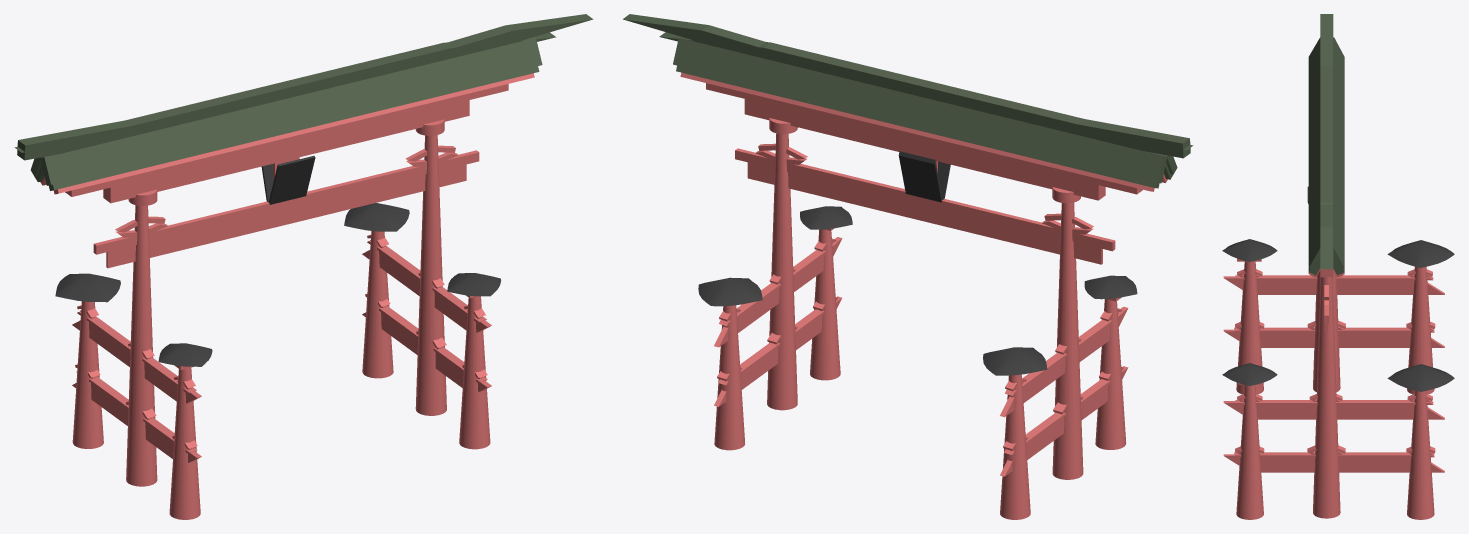
The model's file is toriiaka.fbx.
3 views of the same model, side by side, from view 1: azimuth 30°, elevation 25°; view 2: azimuth 150°, elevation 25°; view 3: azimuth 270°, elevation 25° (orthographic). The views are drawn at different scales.
Visible parts, largest first — view 1: pCube11, pCube5, pCube1, pCylinder1, pCylinder2, pCube3, pCube14, pCube9, pCube16, pCylinder5, pCylinder8, pCylinder6 (+18 smaller); view 2: pCube12, pCube5, pCube1, pCylinder2, pCylinder1, pCube3, pCube14, pCube10, pCube6, pCube16, pCylinder6, pCylinder7 (+18 smaller); view 3: pCylinder2, pCube11, pCube12, pCylinder5, pCylinder6, pCube25, pCube36, pCube26, pCube37, pCylinder8, pCylinder7, pCube14 (+12 smaller).
Boxes of the visible parts, x1,y1,x2,y2 form: pCube11: [40, 37, 542, 185]; pCube5: [103, 100, 469, 203]; pCube1: [106, 164, 466, 268]; pCylinder1: [126, 205, 157, 486]; pCylinder2: [415, 135, 446, 415]; pCube3: [93, 150, 479, 254]; pCube14: [228, 32, 555, 100]; pCube9: [49, 66, 539, 190]; pCube16: [17, 106, 239, 160]; pCylinder5: [459, 296, 490, 449]; pCylinder8: [169, 367, 200, 519]; pCylinder6: [362, 231, 393, 378]; pCube12: [673, 38, 1166, 183]; pCube5: [744, 99, 1105, 200]; pCube1: [747, 162, 1102, 264]; pCylinder2: [767, 133, 797, 410]; pCylinder1: [1052, 202, 1083, 479]; pCube3: [735, 148, 1115, 251]; pCube14: [659, 32, 982, 99]; pCube10: [676, 65, 1159, 188]; pCube6: [706, 83, 1142, 194]; pCube16: [971, 105, 1190, 158]; pCylinder6: [714, 305, 744, 450]; pCylinder7: [1000, 374, 1030, 519]; pCylinder2: [1313, 277, 1340, 518]; pCube11: [1308, 37, 1320, 271]; pCube12: [1333, 37, 1344, 271]; pCylinder5: [1236, 385, 1263, 519]; pCylinder6: [1407, 391, 1434, 519]; pCube25: [1223, 401, 1444, 419]; pCube36: [1223, 276, 1444, 294]; pCube26: [1223, 454, 1444, 472]; pCube37: [1223, 329, 1444, 347]; pCylinder8: [1236, 261, 1263, 394]; pCylinder7: [1407, 266, 1434, 394]; pCube14: [1320, 110, 1333, 204].
Bounding box in the file's own units: 31.59 × 19.43 × 12.66.
